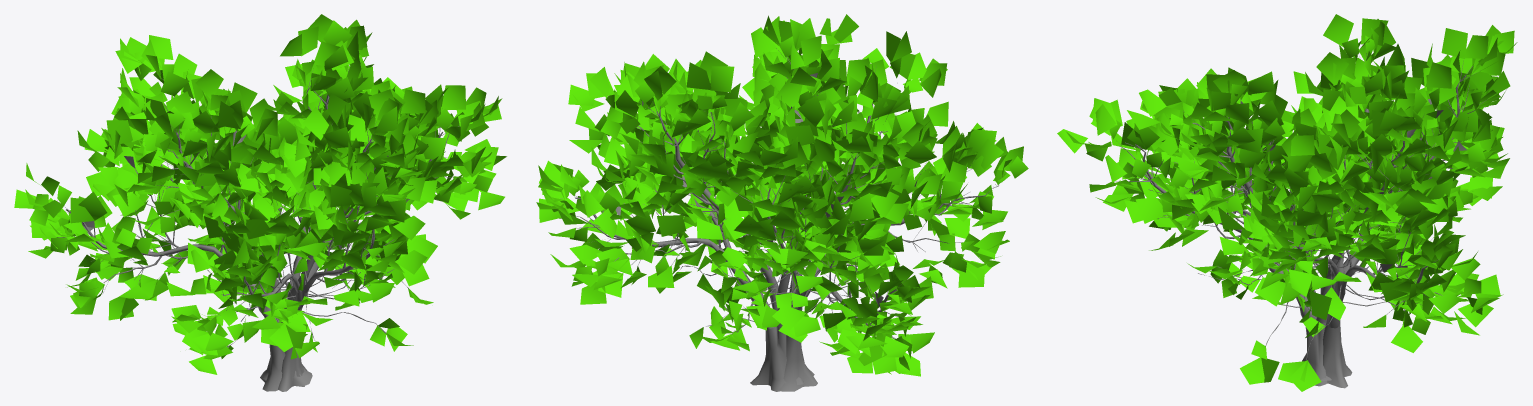
Rendered from SM_MapleTree3_Foliage.fbx.
3 renders of one model, left to right at view 1: azimuth 30°, elevation 25°; view 2: azimuth 150°, elevation 25°; view 3: azimuth 270°, elevation 25°, orthographic. The views are drawn at different scales.
Visible parts, largest first — view 1: SM_MapleTree3_LOD1; view 2: SM_MapleTree3_LOD1; view 3: SM_MapleTree3_LOD1.
Boxes of the visible parts, box(x1,y1,x2,y2) form: SM_MapleTree3_LOD1: box(14, 14, 506, 391); SM_MapleTree3_LOD1: box(536, 14, 1028, 391); SM_MapleTree3_LOD1: box(1057, 14, 1517, 391).
Size of the model in its own units: 1919 by 1411 by 1783.
